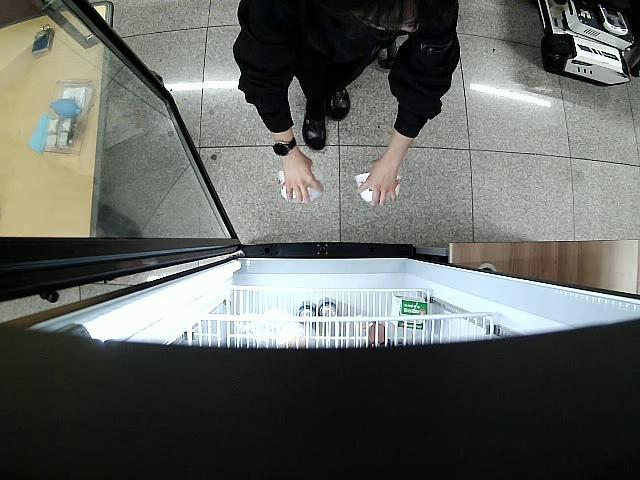09_yukGaeJang: (274, 166, 320, 205), (355, 171, 402, 202)
